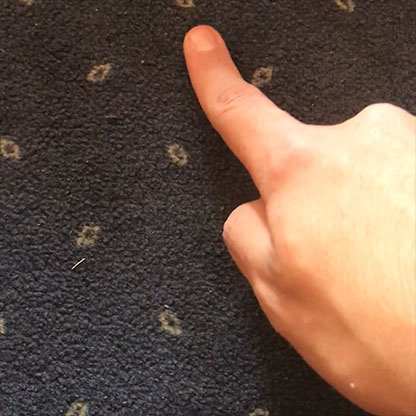fingertip: (175, 19, 233, 62)
